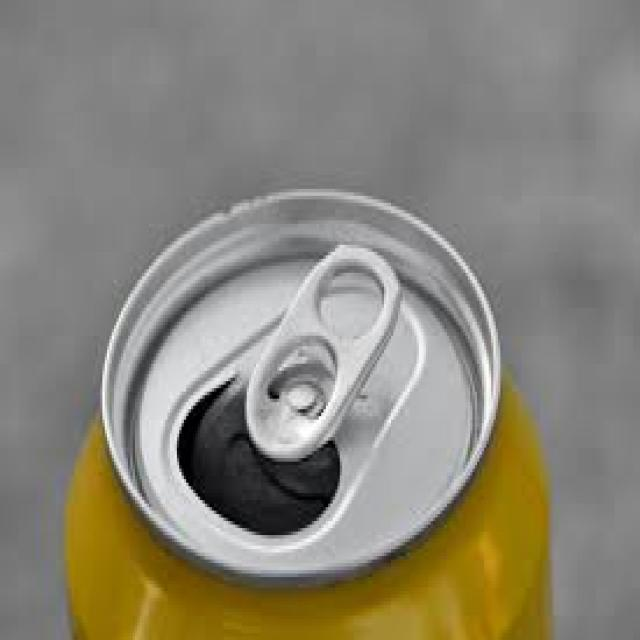metal: (61, 186, 549, 637)
